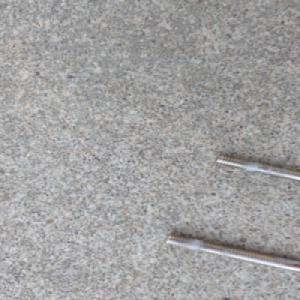ClampPart: (160, 150, 300, 272)
